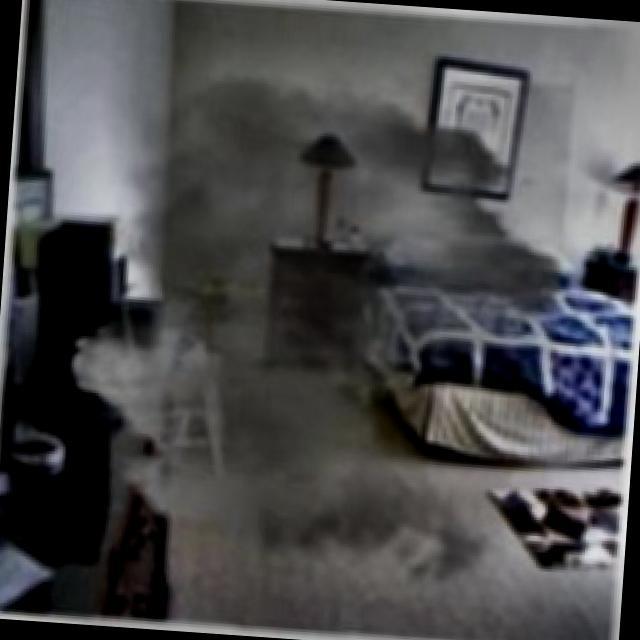smoke: (199, 83, 496, 446)
